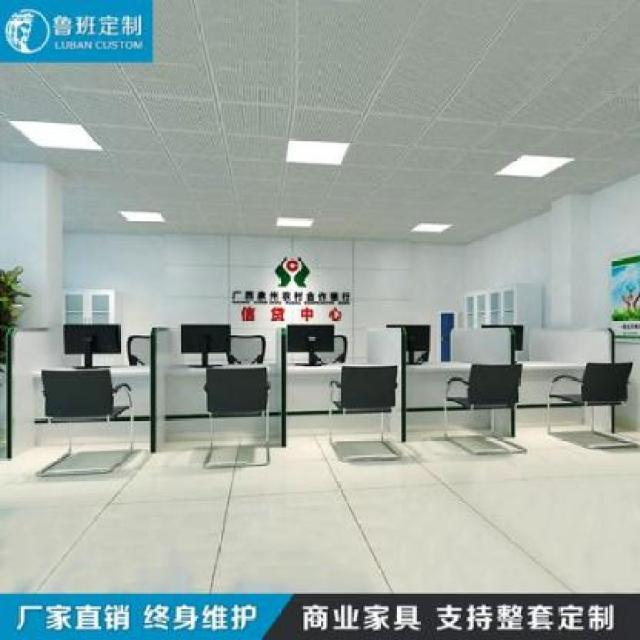frontdesk: (0, 303, 618, 480)
